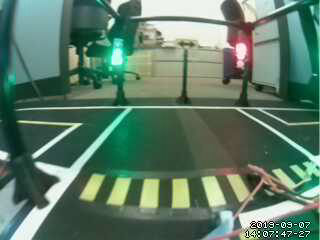Left_Right_sign: (176, 37, 199, 49)
Traffic_light_green: (112, 38, 121, 65)
Traffic_light_red: (234, 43, 247, 71)
